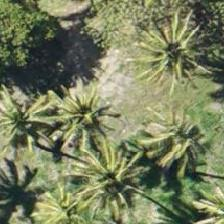coconut_tree: (132, 17, 222, 107), (130, 102, 220, 192), (64, 130, 154, 220), (55, 63, 145, 153), (0, 74, 76, 164), (7, 164, 97, 223)
